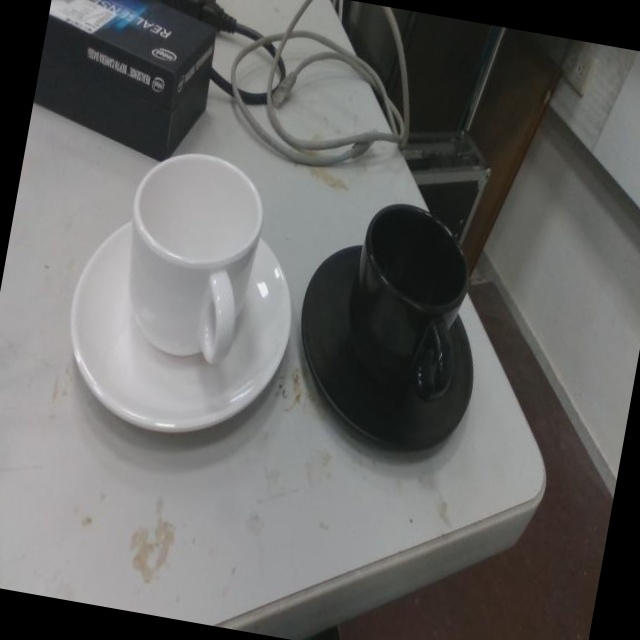black: (298, 201, 484, 456)
white: (73, 148, 297, 444)
